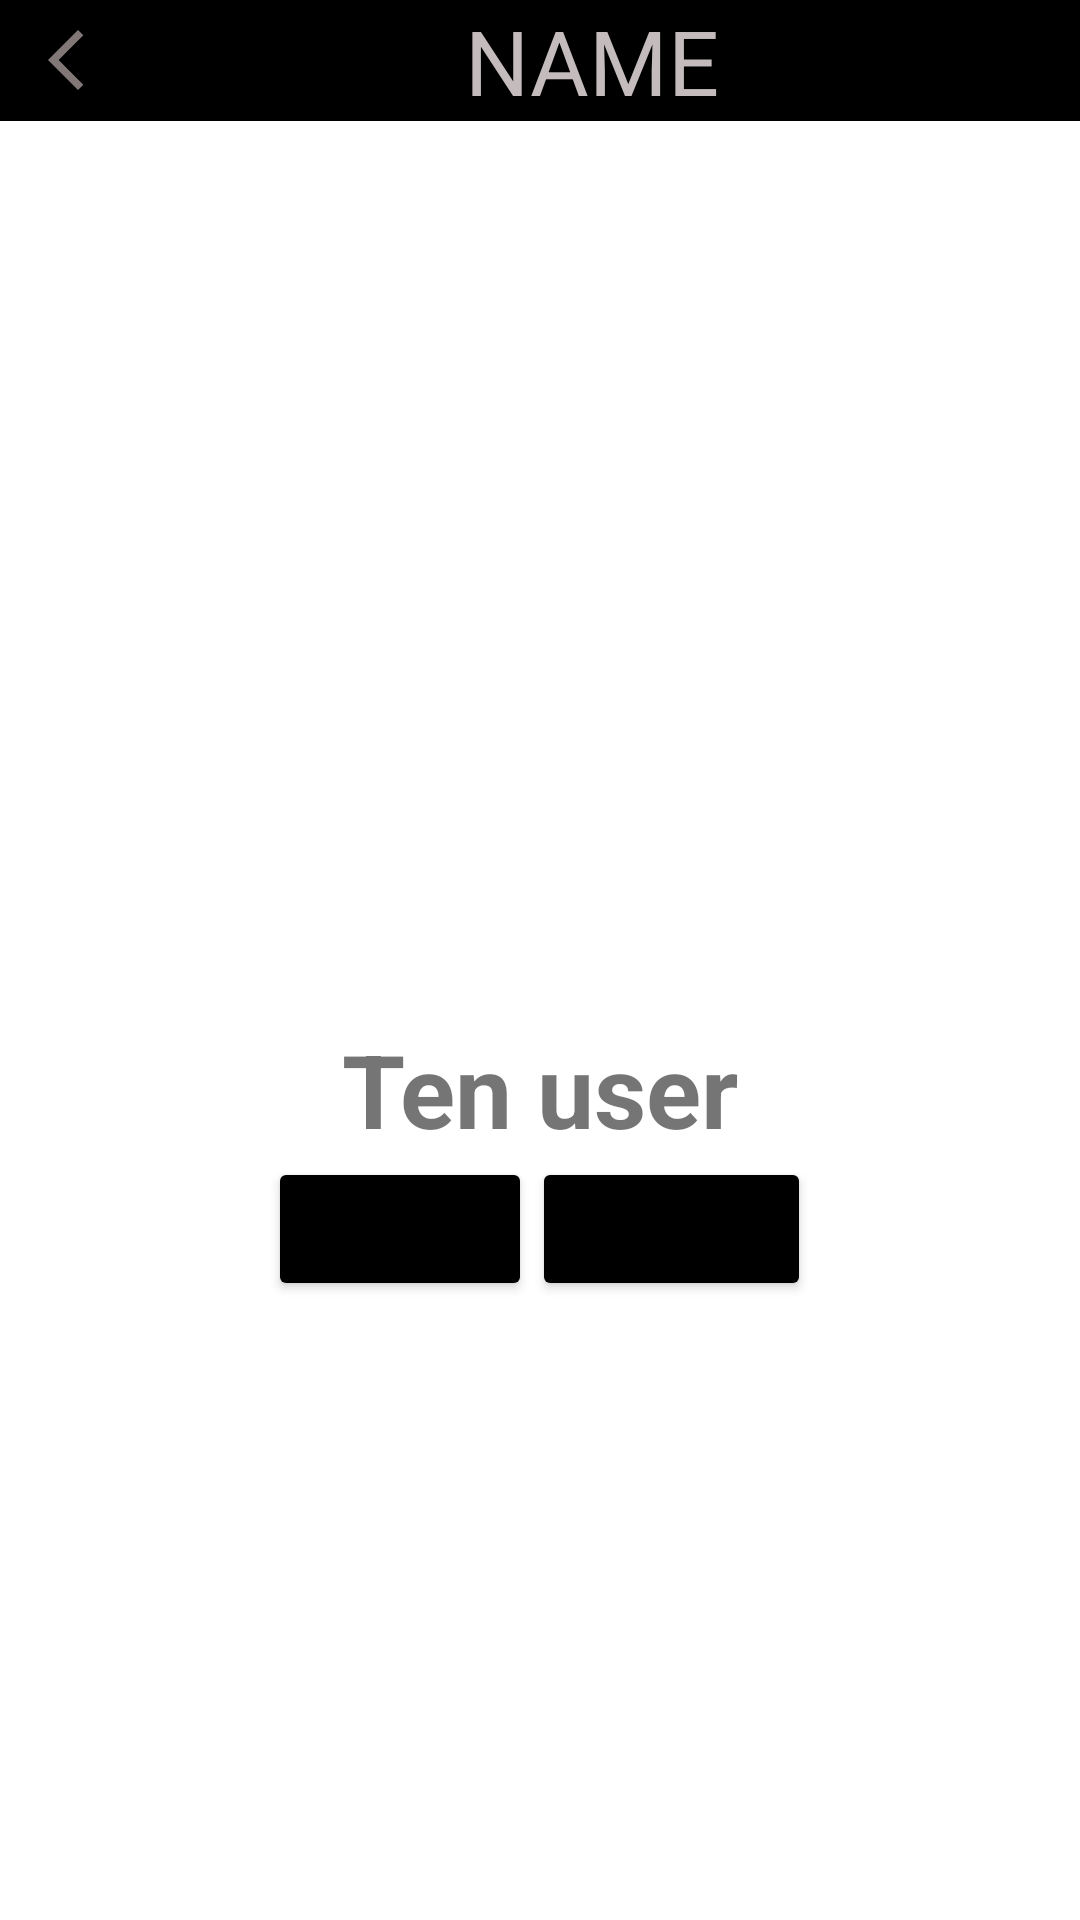

Icons on this 1080×1920 Android screen, each with its box as (x1, y1, x2, y2):
back: (48, 30, 83, 90)
